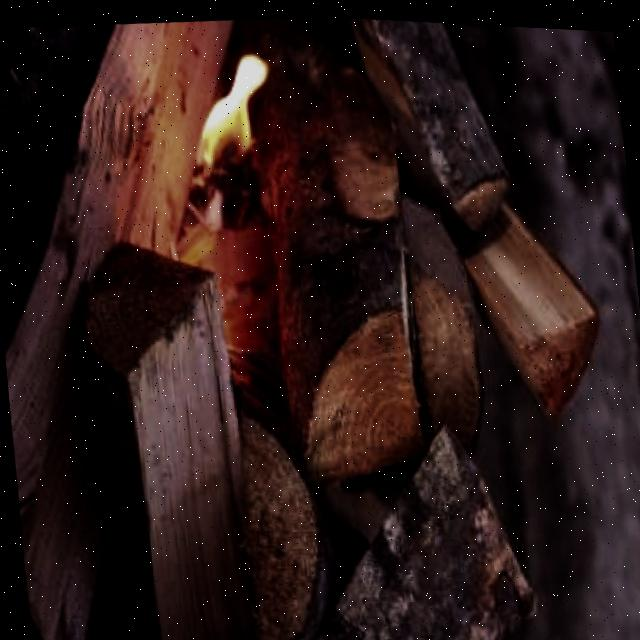Fire: (166, 8, 304, 224)
